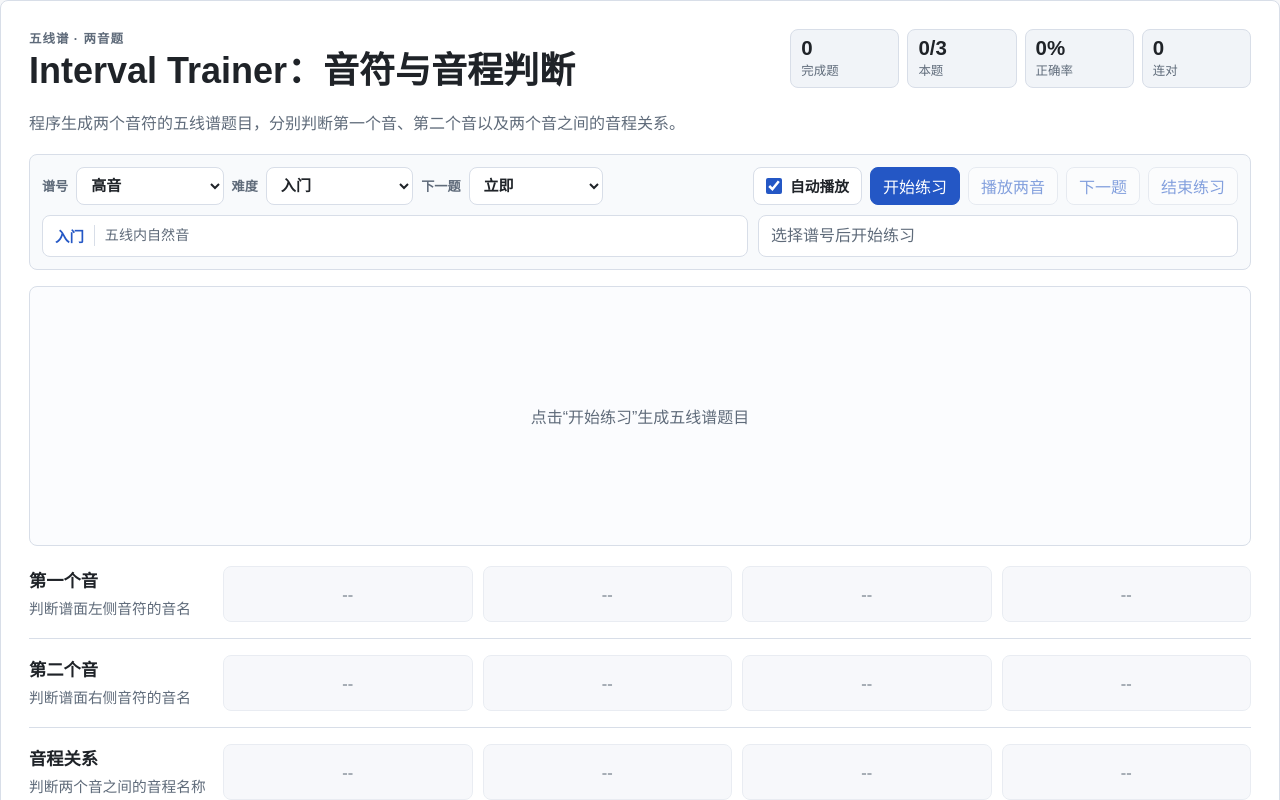
Test: IntervalTrainerPage › 未开始时可切换谱号，停止后清空当前题目
The image size is (1280, 800).
Select "低音" in the dropdown labelled "谱号" at x=150, y=186, box top-left (76, 167), bottom-right (224, 205)
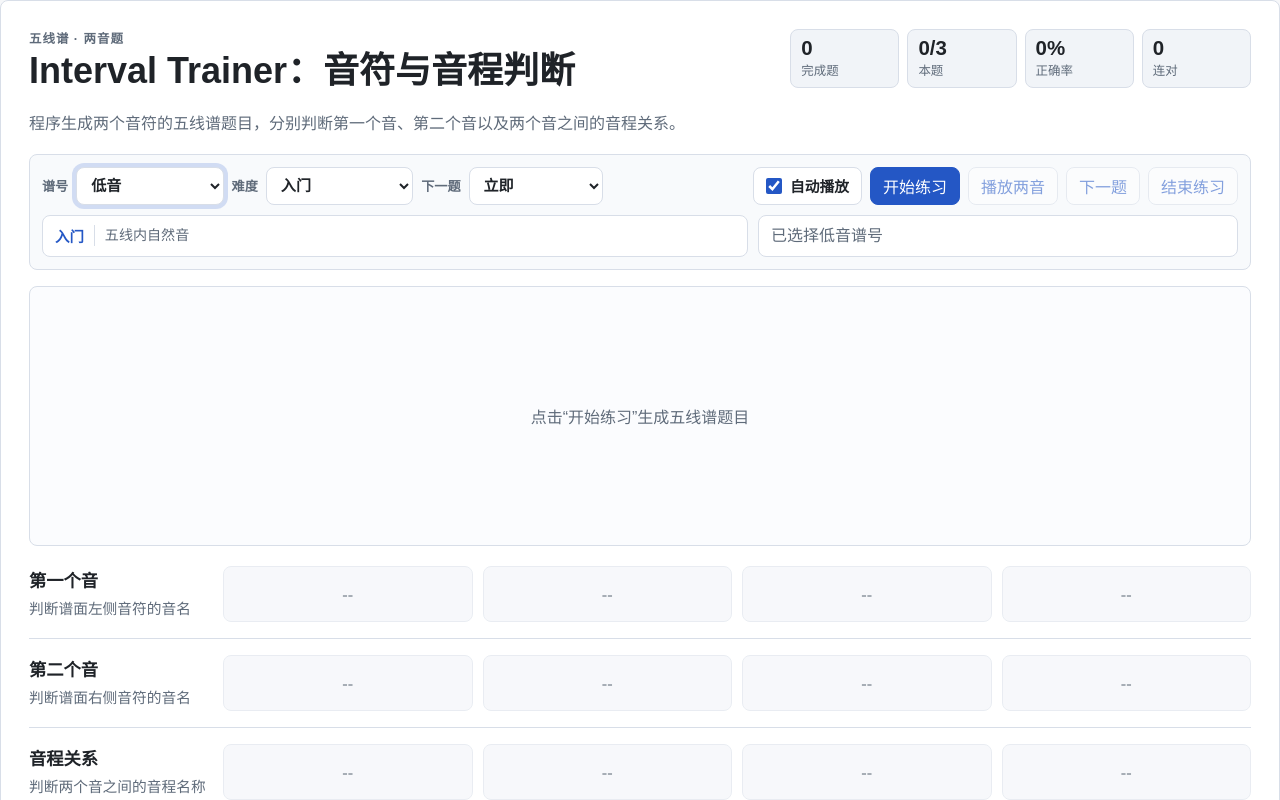
Now the message reads "已选择低音谱号", box top-left (771, 227), bottom-right (883, 244)
Click the button "开始练习" at x=915, y=186, box top-left (870, 167), bottom-right (960, 205)
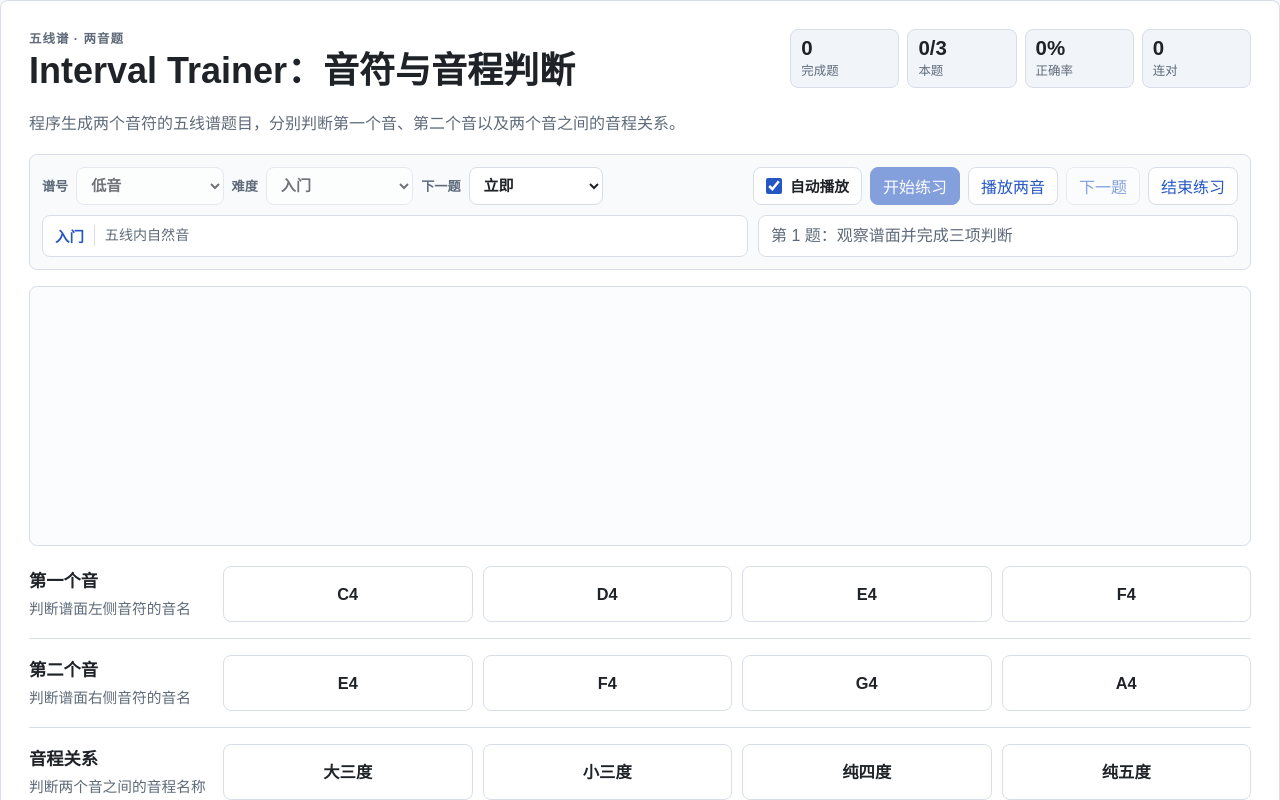
Click the button "结束练习" at x=1193, y=186, box top-left (1148, 167), bottom-right (1238, 205)
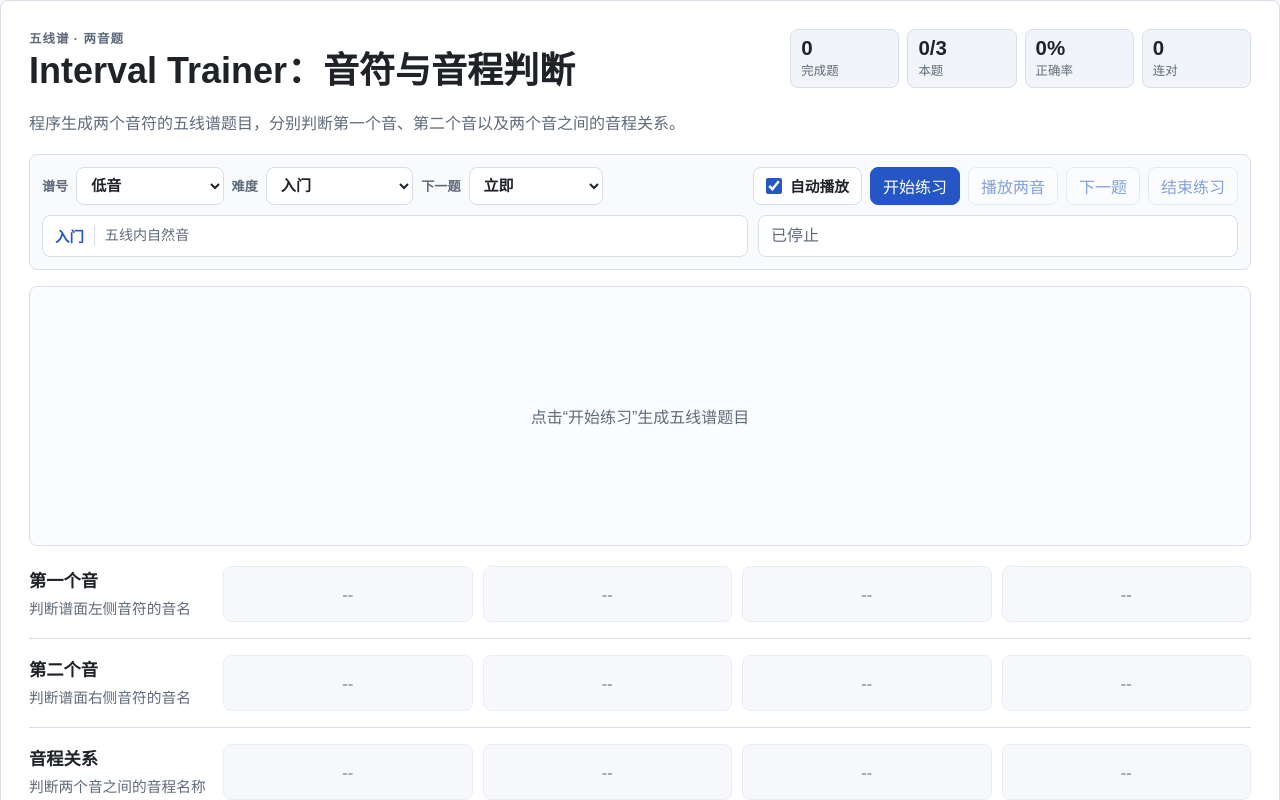
Expected: the element labelled "完成题 0" is shown, top-left (790, 29), bottom-right (899, 88)
Now the message reads "已停止", box top-left (771, 227), bottom-right (819, 244)
Now the text "点击“开始练习”生成五线谱题目" is shown, box top-left (531, 409), bottom-right (749, 426)
